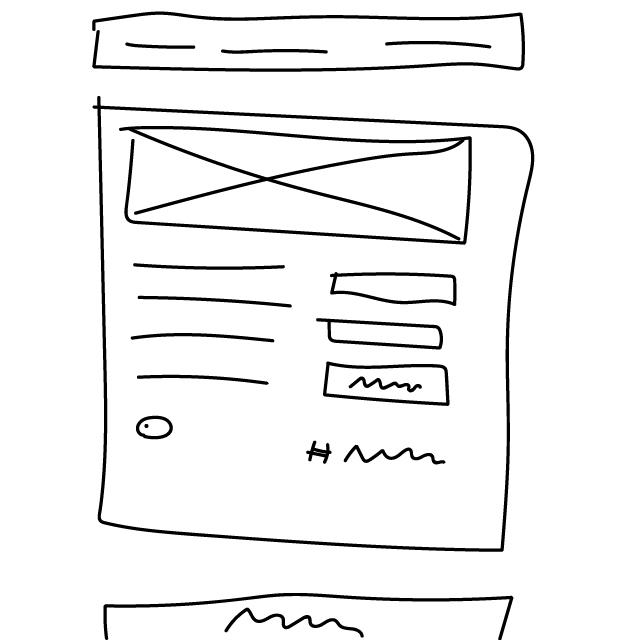button: (322, 355, 455, 413)
checkbox: (136, 414, 178, 441)
container: (83, 97, 543, 558)
footer: (95, 587, 526, 640)
frame: (119, 122, 480, 248)
heading: (305, 437, 450, 477)
input: (317, 310, 448, 354), (328, 269, 461, 310)
nav: (88, 7, 538, 76)
text: (126, 260, 299, 390)
